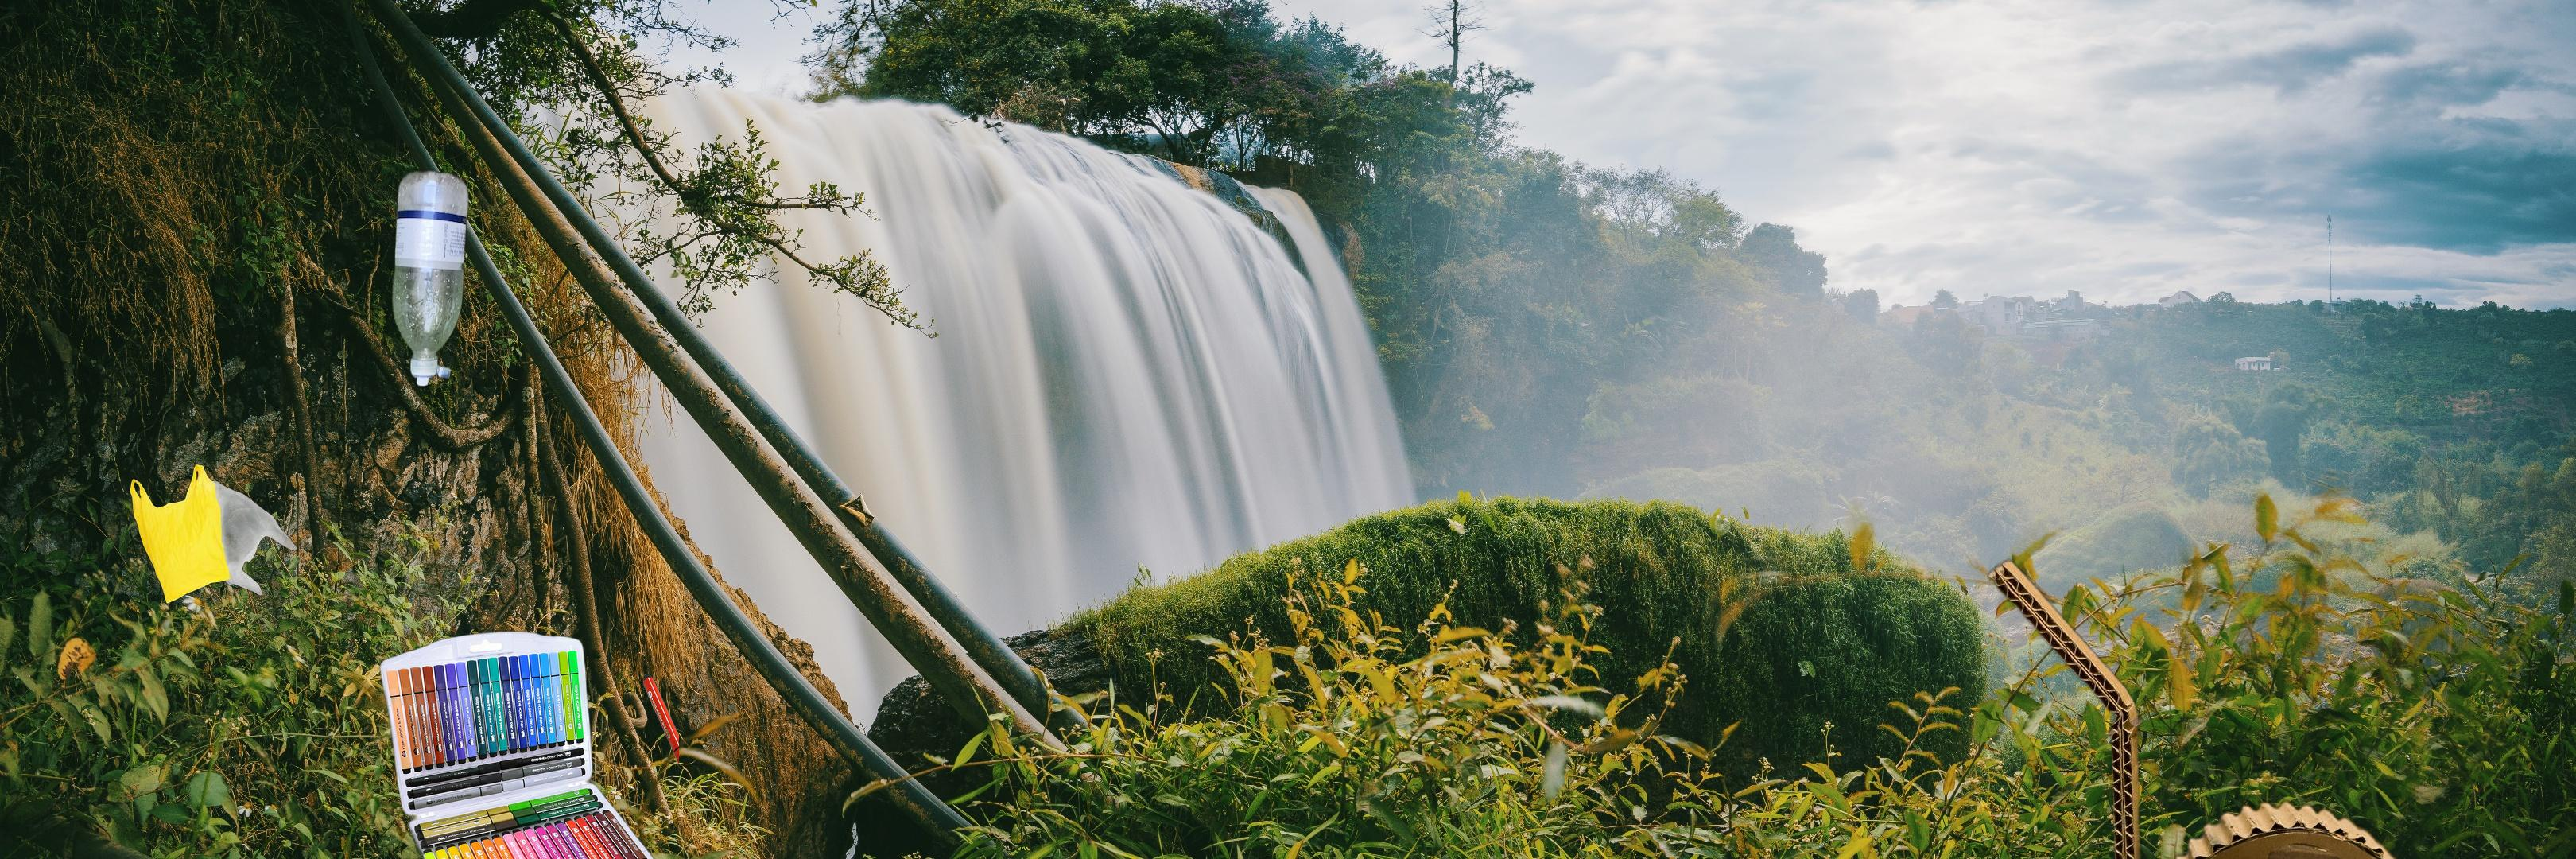penholder: (361, 631, 678, 859)
plastic-bag: (126, 453, 299, 606)
plastic-bottles: (388, 166, 472, 393)
trashbox-cardboard: (1896, 554, 2426, 859)
